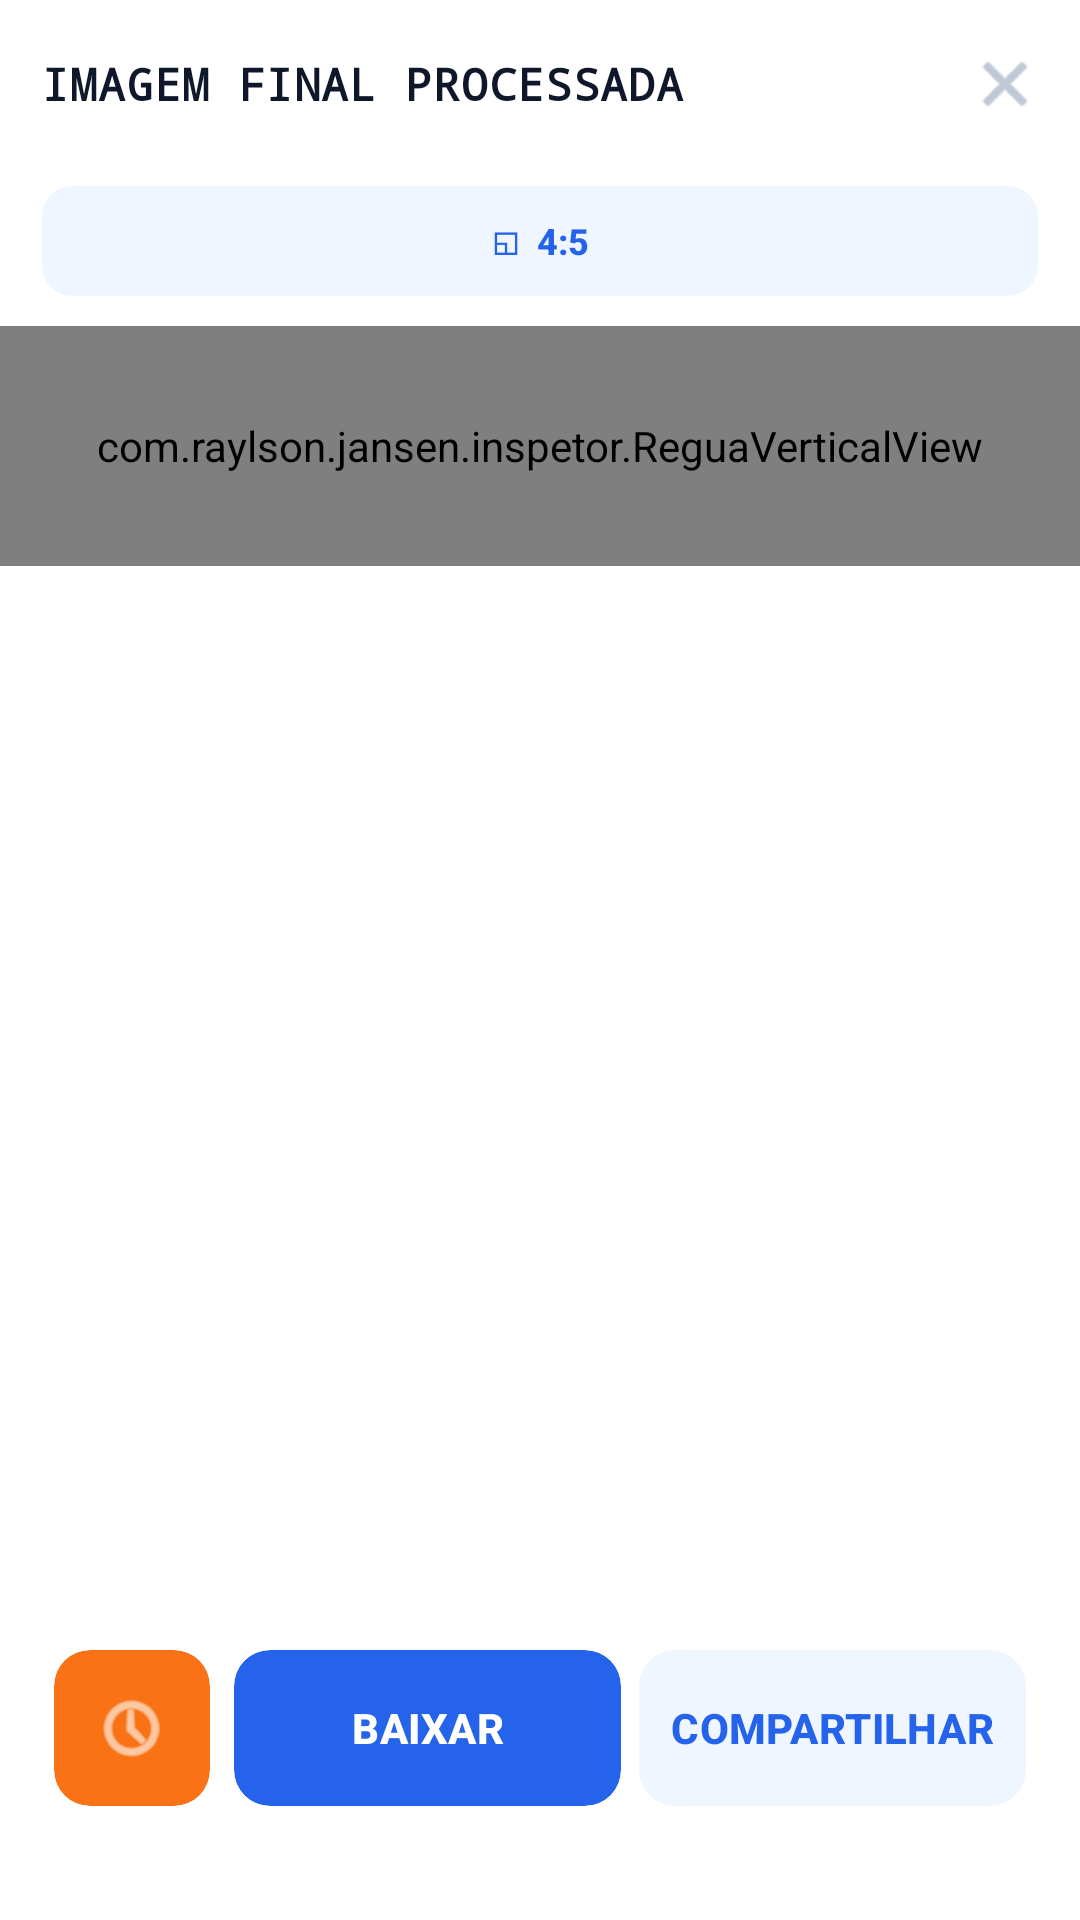

Icons on this 1080px x 1920px Android screen, each with its box as bbox=(x1, y1, x2, y2):
Editar data e hora: bbox=(54, 1650, 210, 1806)
Fechar: bbox=(983, 62, 1027, 106)
